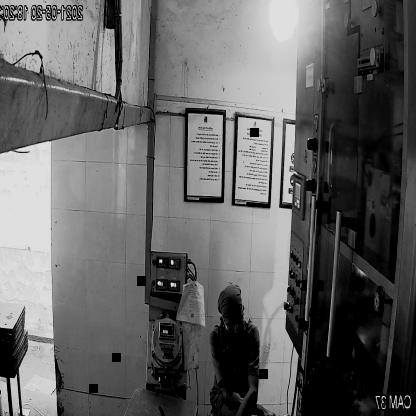goggles: (218, 306, 250, 334)
